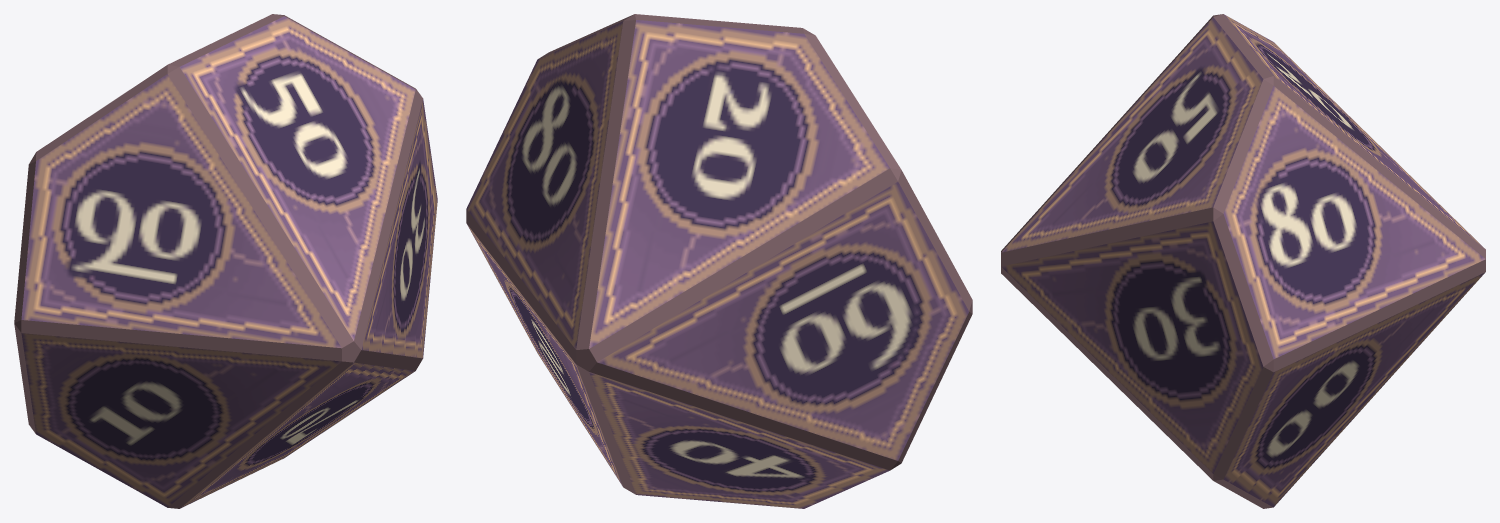
3 renders of one model, left to right at view 1: azimuth 30°, elevation 25°; view 2: azimuth 150°, elevation 25°; view 3: azimuth 270°, elevation 25°, orthographic. The views are drawn at different scales.
Bounding box in the file's own units: 188 × 179 × 183.
1 material, 1 textured.
